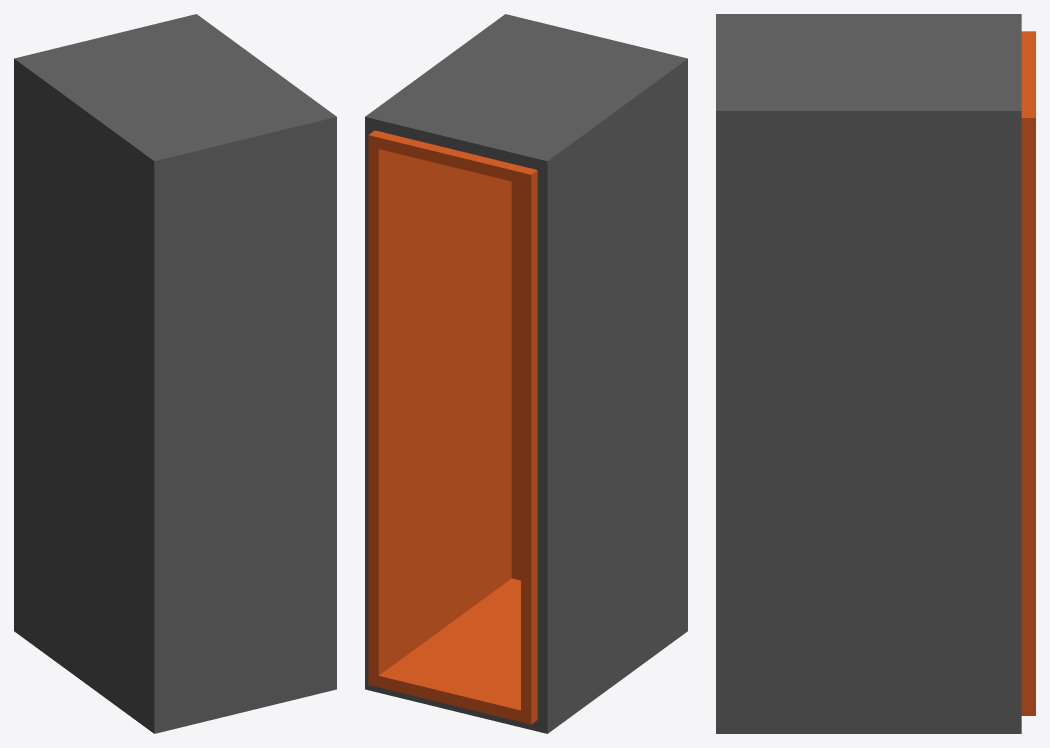
File: Door2OutPart.fbx
3 views of the same model, side by side, from view 1: azimuth 30°, elevation 25°; view 2: azimuth 150°, elevation 25°; view 3: azimuth 270°, elevation 25° (orthographic). The views are drawn at different scales.
Parts seen in each view (by area): view 1: Cube; view 2: Cube; view 3: Cube.
Boxes of the visible parts, x1,y1,x2,y2 form: Cube: [14, 14, 336, 733]; Cube: [365, 14, 687, 733]; Cube: [716, 14, 1035, 733].
Bounding box in the file's own units: 600 × 1800 × 837.
